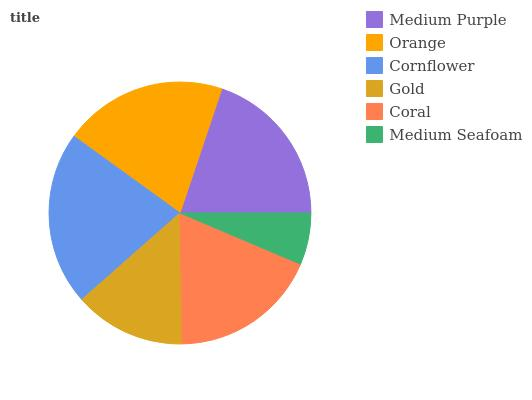legend: (353, 0, 532, 153)
sector: (49, 137, 182, 299), (74, 81, 220, 212), (178, 87, 311, 212), (180, 213, 301, 344), (82, 212, 182, 344), (179, 211, 312, 264)
